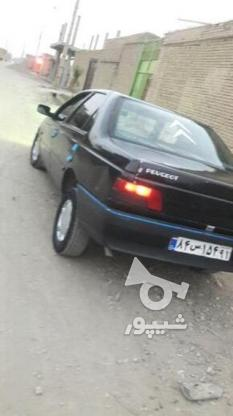car: (167, 232, 232, 264)
